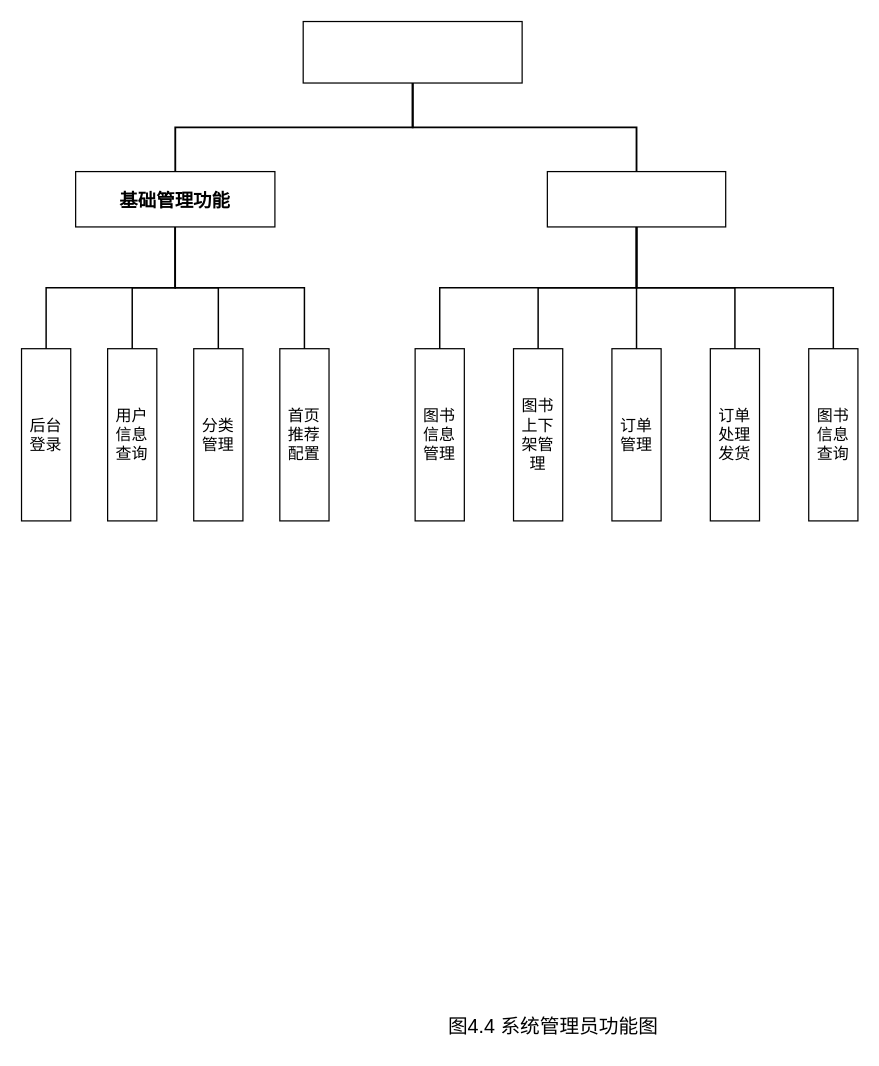
The diagram is 879 pixels wide and 1066 high, and some of its shapes have lost their labels. Here are the shapes that lost their labels. From the top down, the box of each, then its label:
(302, 20, 522, 83): 系统管理员
(546, 170, 726, 227): 业务管理功能
